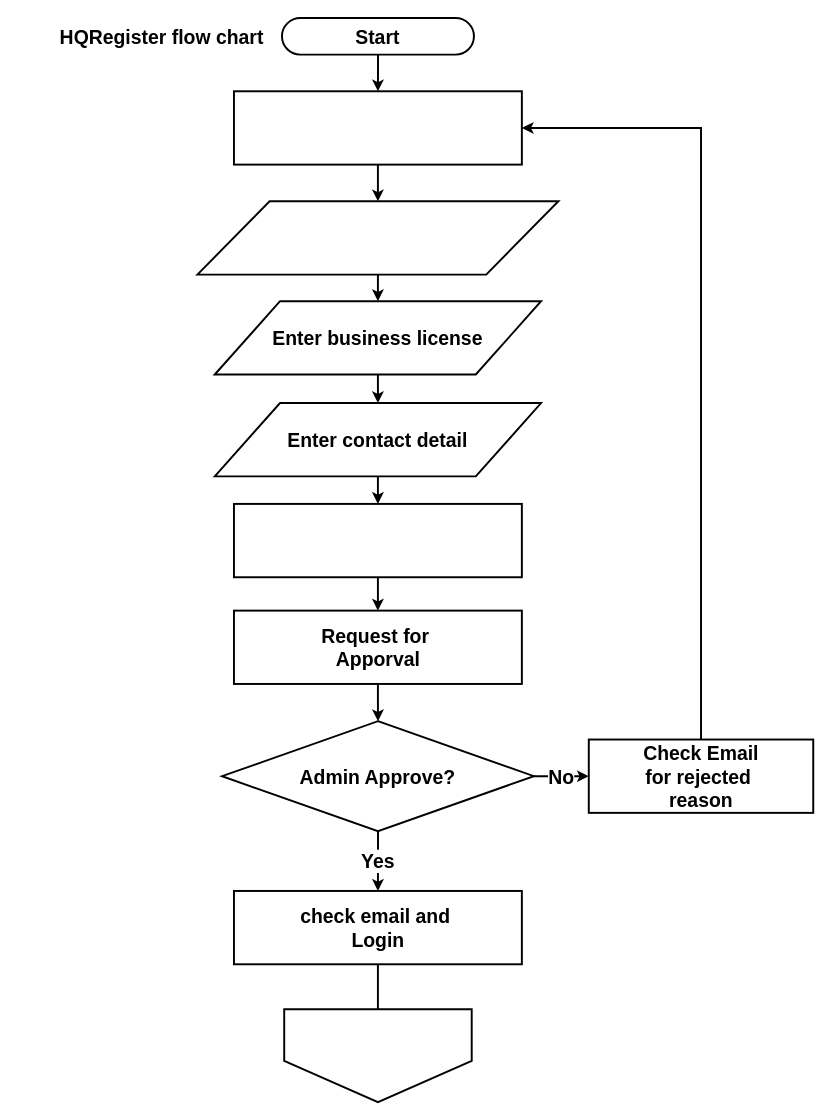
This 830x1119 diagram has some shape labels left out. The centre of each missing label's shape, as x and y in pixels:
Enter Company's name, address, and upload logo: (x=377, y=237)
HQ: (x=377, y=1055)
Pay up Registration fee: (x=377, y=540)
Register: (x=377, y=127)
